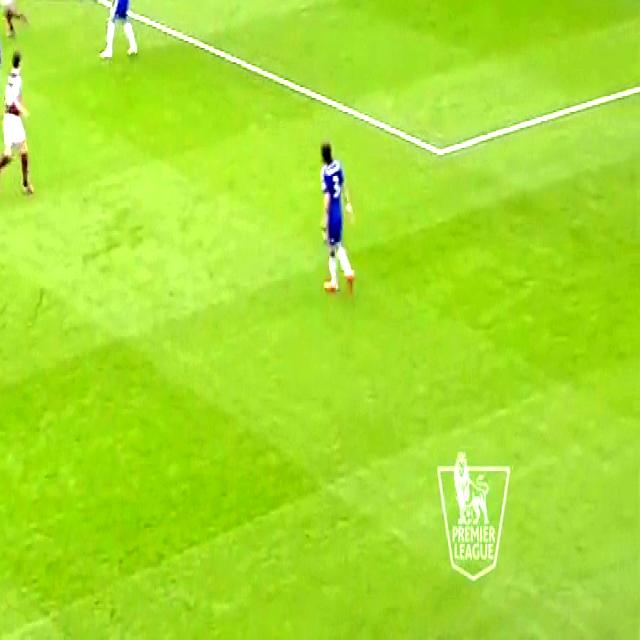soccer-player: (313, 129, 361, 302), (0, 42, 39, 204), (95, 0, 141, 71), (0, 0, 26, 53), (0, 0, 1, 121)
